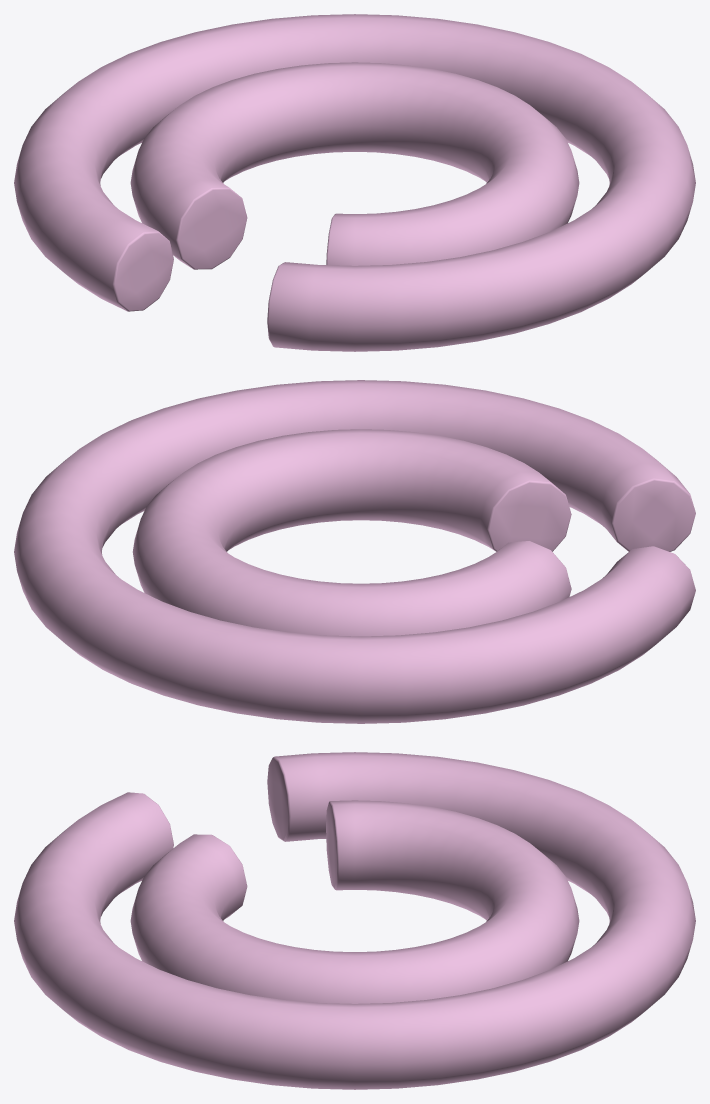
File: circulos.fbx
3 views of the same model, one above another, from view 1: azimuth 30°, elevation 25°; view 2: azimuth 150°, elevation 25°; view 3: azimuth 270°, elevation 25° (orthographic).
Visible parts, largest first — view 1: Circulo1, Circulo2; view 2: Circulo1, Circulo2; view 3: Circulo1, Circulo2.
Boxes of the visible parts, left/top/right/bottom form: Circulo1: left=14, top=14, right=695, bottom=351; Circulo2: left=130, top=62, right=579, bottom=269; Circulo1: left=14, top=380, right=695, bottom=723; Circulo2: left=132, top=429, right=571, bottom=636; Circulo1: left=14, top=752, right=695, bottom=1089; Circulo2: left=130, top=800, right=579, bottom=1003.
Bounding box in the file's own units: 3764 × 495 × 3764.
